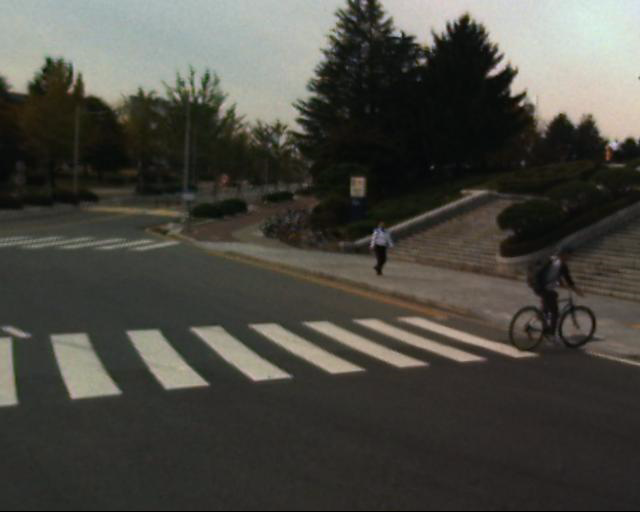person: (531, 245, 582, 350), (372, 217, 393, 283)
